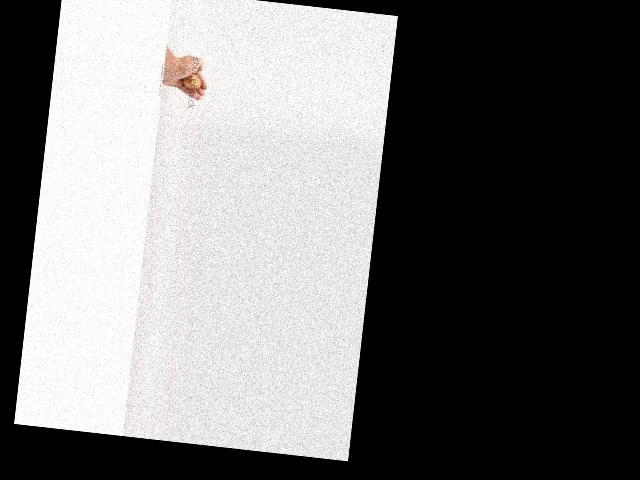egg: (181, 73, 201, 90)
